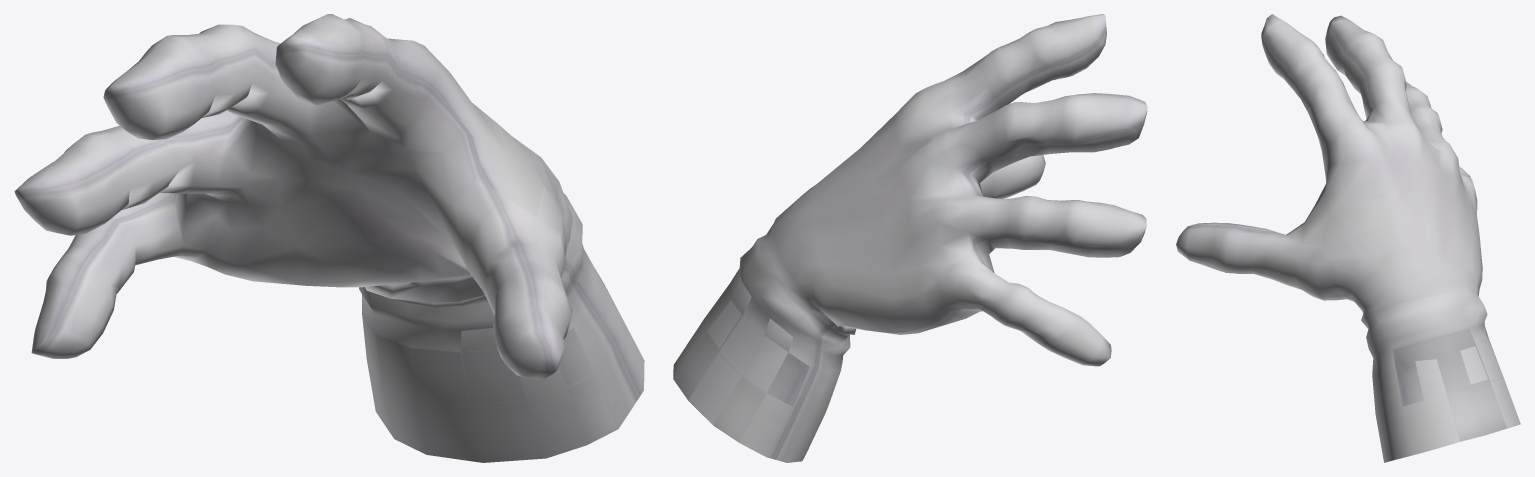
Rendered from Master Hand.obj.
3 views of the same model, side by side, from view 1: azimuth 30°, elevation 25°; view 2: azimuth 150°, elevation 25°; view 3: azimuth 270°, elevation 25° (orthographic). The views are drawn at different scales.
Parts seen in each view (by area): view 1: polygon0, polygon2, polygon4, polygon3; view 2: polygon0, polygon2, polygon3, polygon4; view 3: polygon0, polygon2, polygon3, polygon4.
Boxes of the visible parts, x1,y1,x2,y2 form: polygon0: (14,14,583,379); polygon2: (205,41,571,302); polygon4: (375,269,644,462); polygon3: (362,249,644,462); polygon0: (739,14,1147,366); polygon2: (768,88,976,334); polygon3: (688,297,843,462); polygon4: (673,268,835,457); polygon0: (1176,14,1487,357); polygon2: (1301,123,1482,311); polygon3: (1372,325,1520,462); polygon4: (1387,325,1520,441).
Size of the model in its own units: 15.76 by 13.97 by 12.56.
